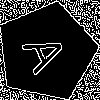A: (21, 26, 78, 77)
